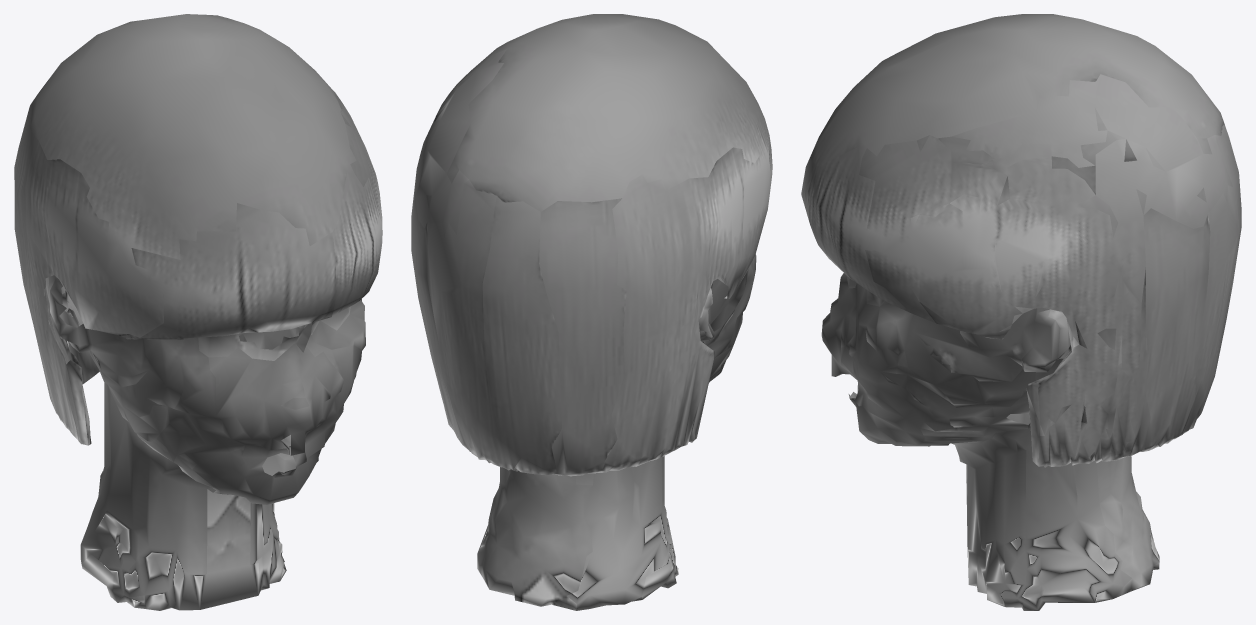
File: bob-bangs.glb
3 views of the same model, side by side, from view 1: azimuth 30°, elevation 25°; view 2: azimuth 150°, elevation 25°; view 3: azimuth 270°, elevation 25° (orthographic). The views are drawn at different scales.
Parts seen in each view (by area): view 1: bob-bangs; view 2: bob-bangs; view 3: bob-bangs.
Part boxes in pixels (x1,y1,x2,y2): bob-bangs: (14, 14, 382, 610); bob-bangs: (411, 14, 772, 610); bob-bangs: (801, 14, 1241, 610).
Bounding box in the file's own units: 0.1842 × 0.3385 × 0.2495.
Materials: 1 (1 with a texture image).
